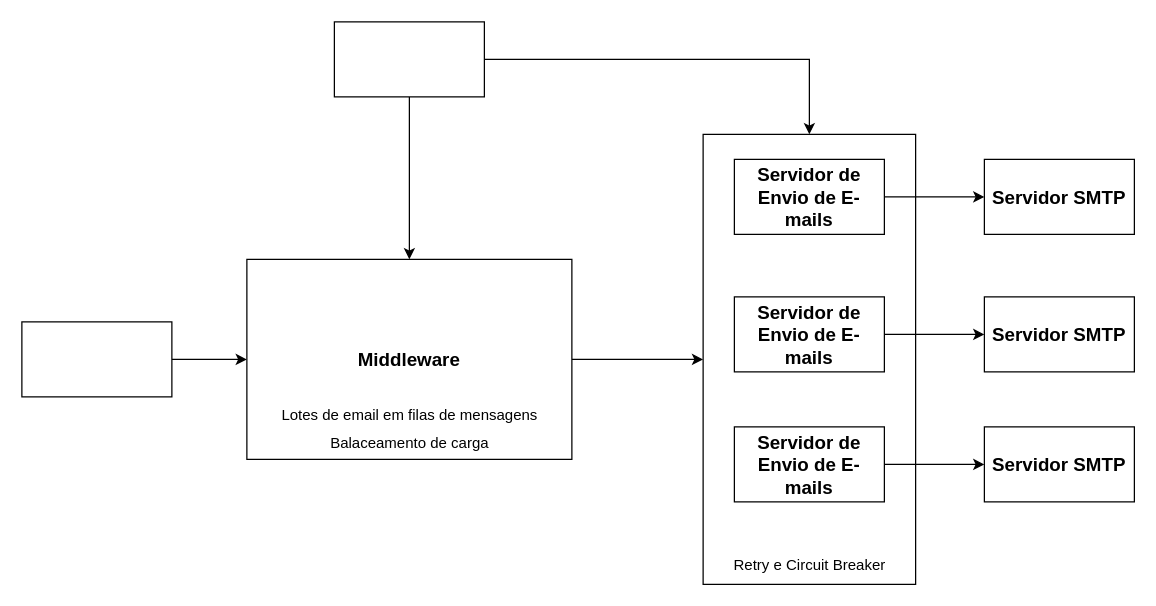
The diagram is 1156 pixels wide and 606 high, and some of its shapes have lost their labels. The shapes that lost their labels are listed below. From the top down, each one's centre as x and y in pixels, then its label:
At point 408,59: "Serviço de descoberta".
At point 96,359: "Cliente".
